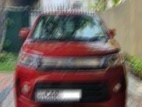car: (16, 13, 127, 107)
